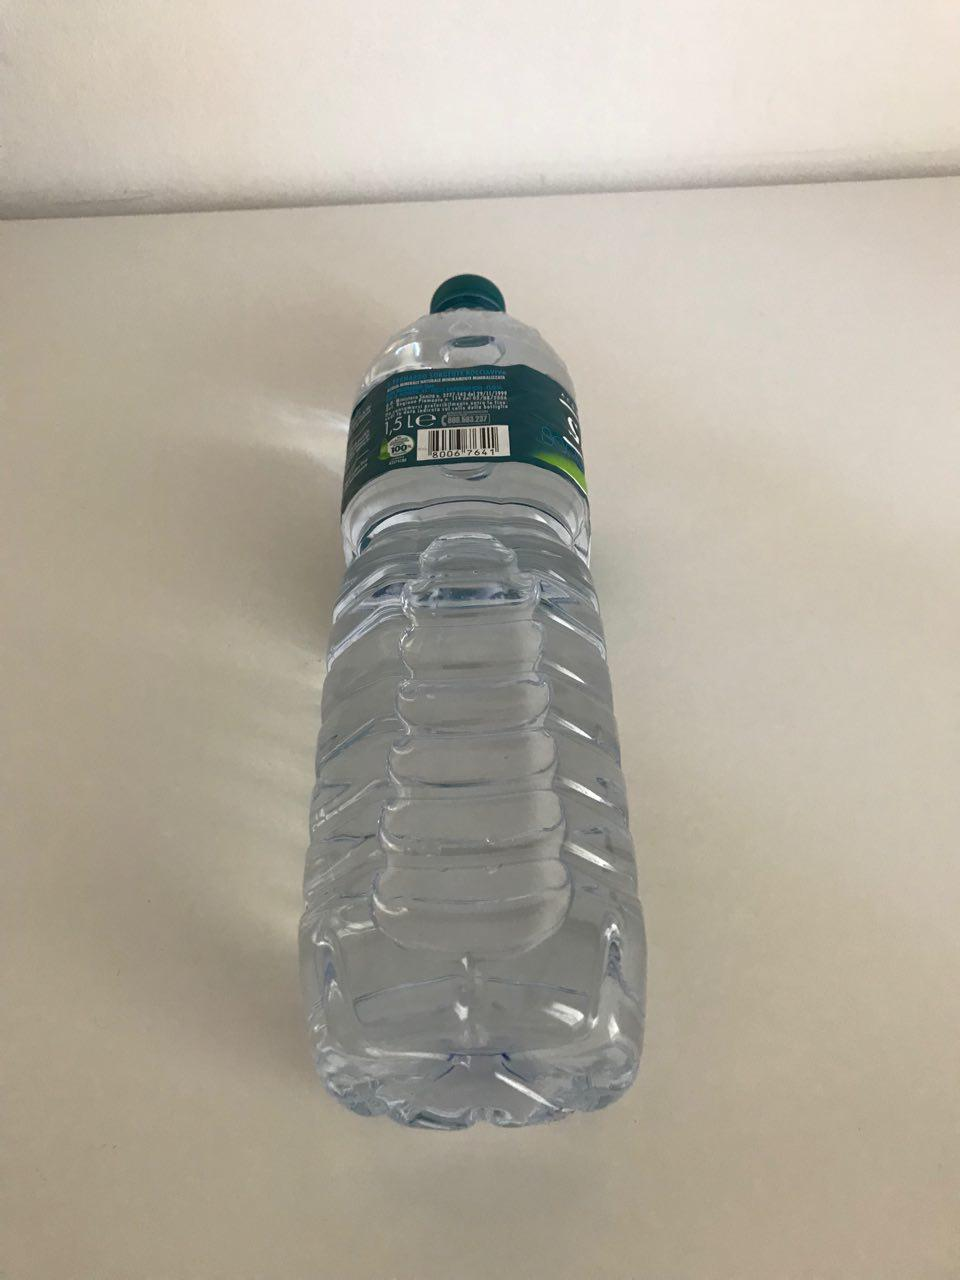san_bernardo: (295, 270, 652, 1136)
